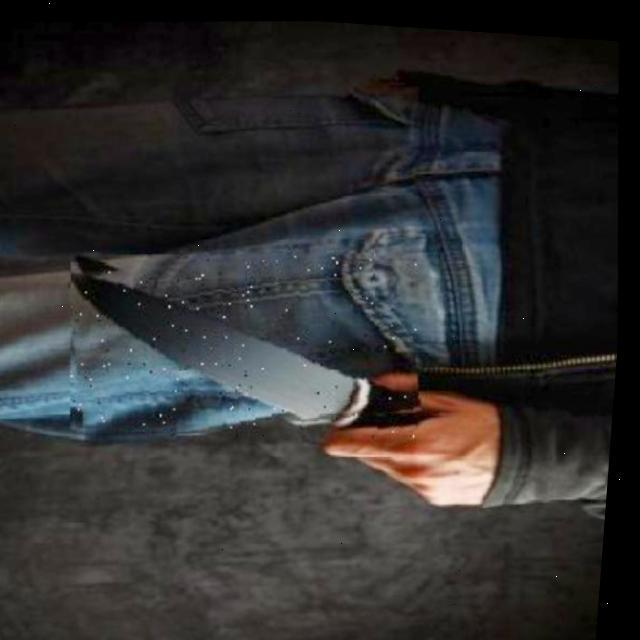knife: (64, 228, 432, 456)
